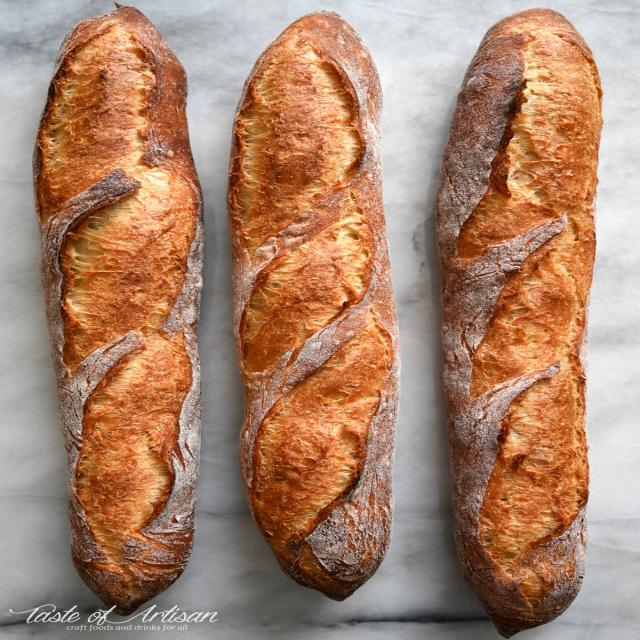Baguette: (437, 9, 602, 636), (35, 6, 203, 613), (228, 12, 398, 599)
